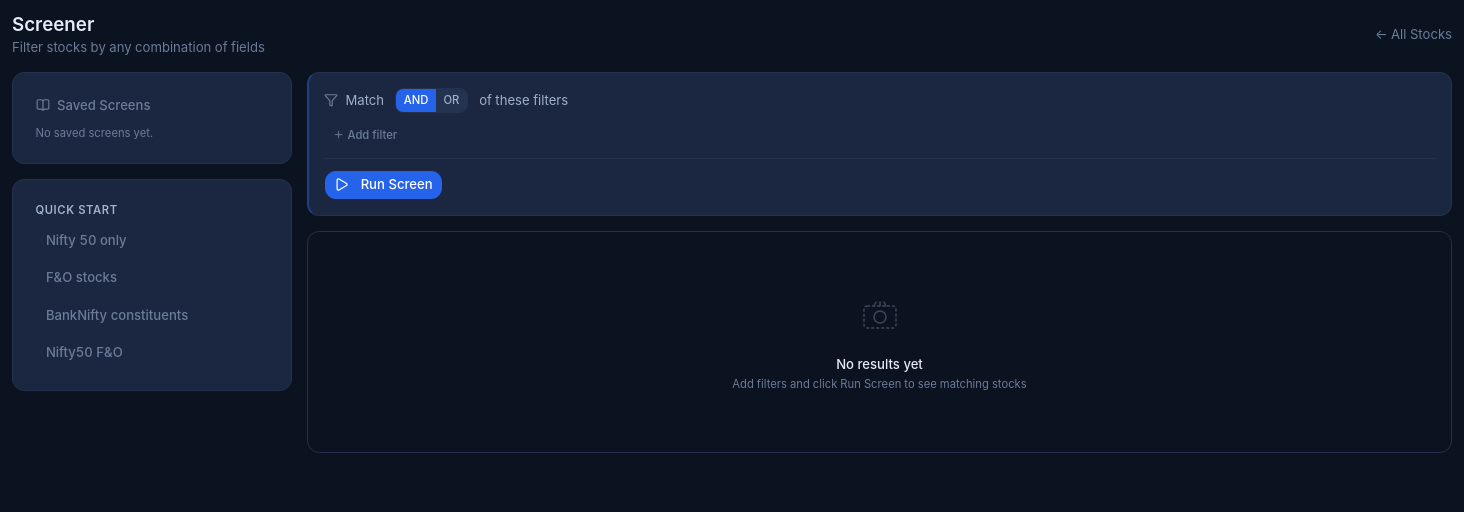
ScreenerPage › loads starter screen filters on click
What coordinates should you click on to do the following:
click the button "Nifty 50 only"
I would click on:
 (152, 240)
Its box is [36,225,268,255].
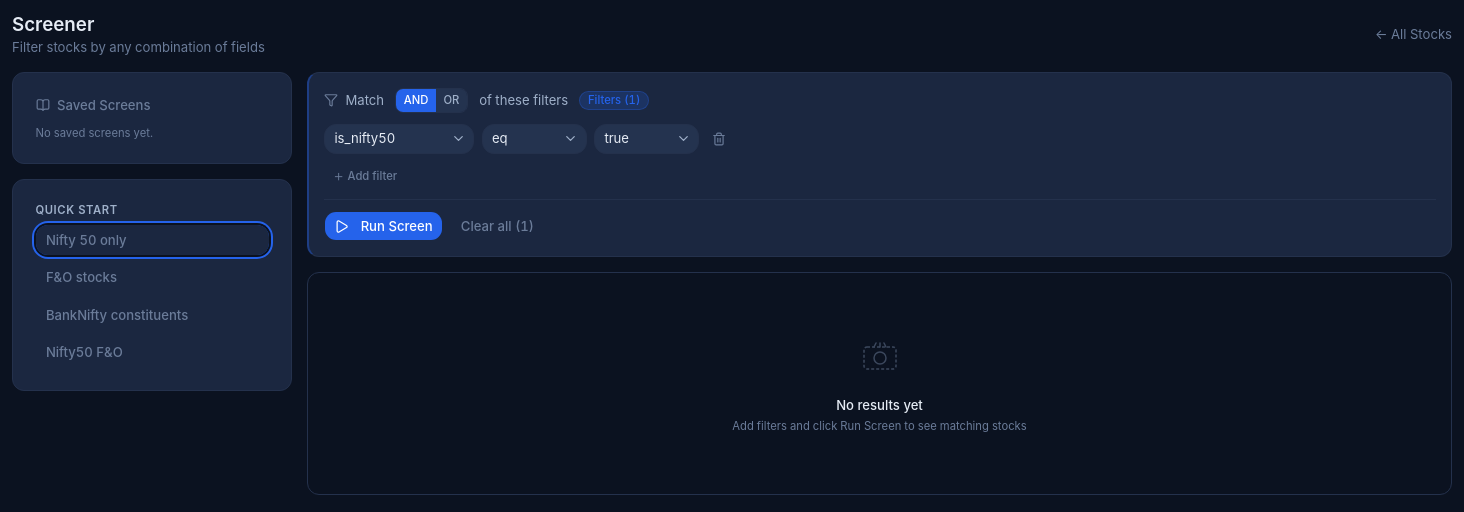
Check: the dropdown labelled "is_nifty50 ▼" is shown, box [324,124,474,154]
